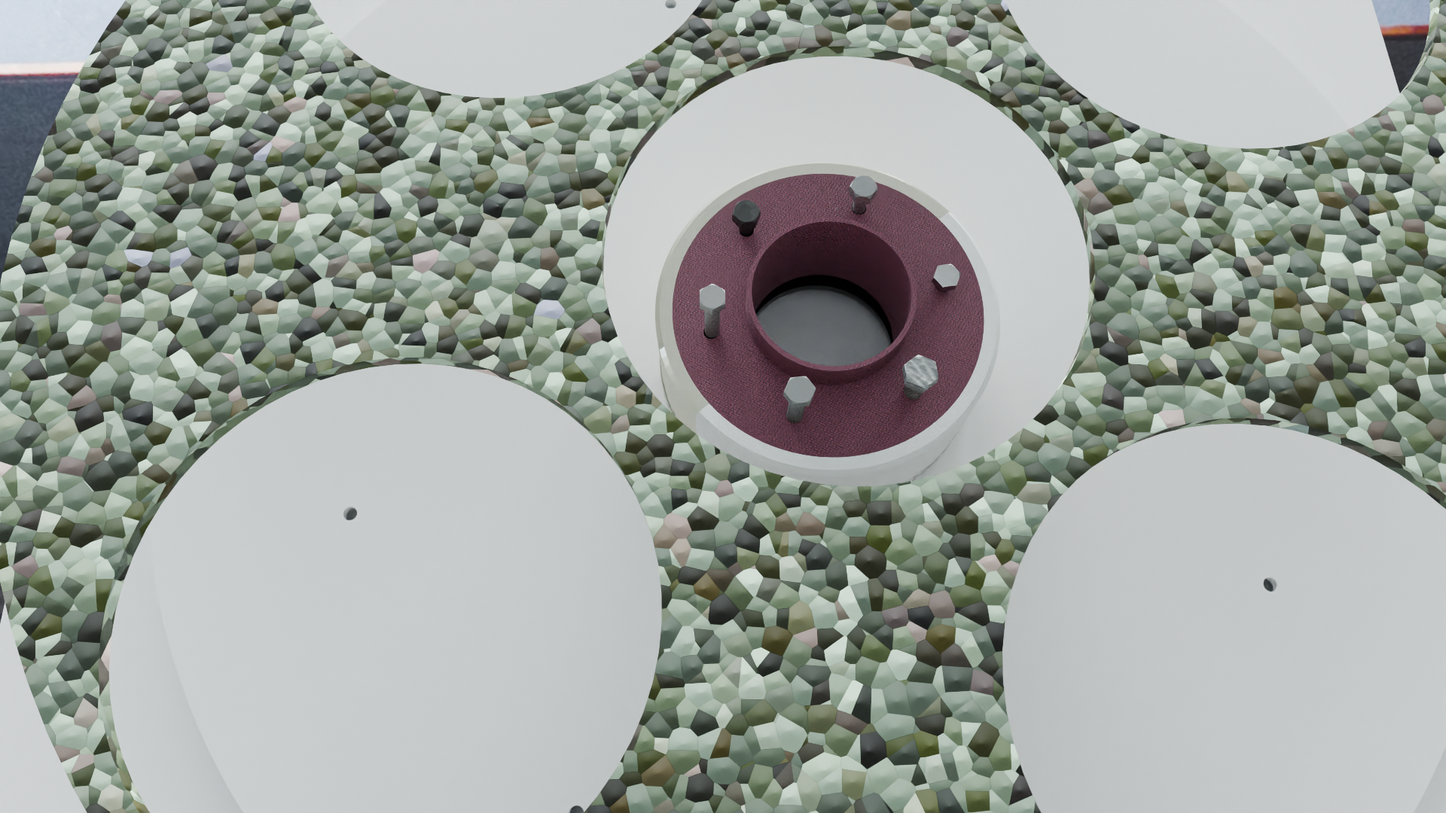bolt: (904, 355, 938, 388), (784, 376, 816, 404), (732, 200, 761, 224), (850, 175, 878, 199), (933, 264, 961, 288), (700, 284, 725, 310)
